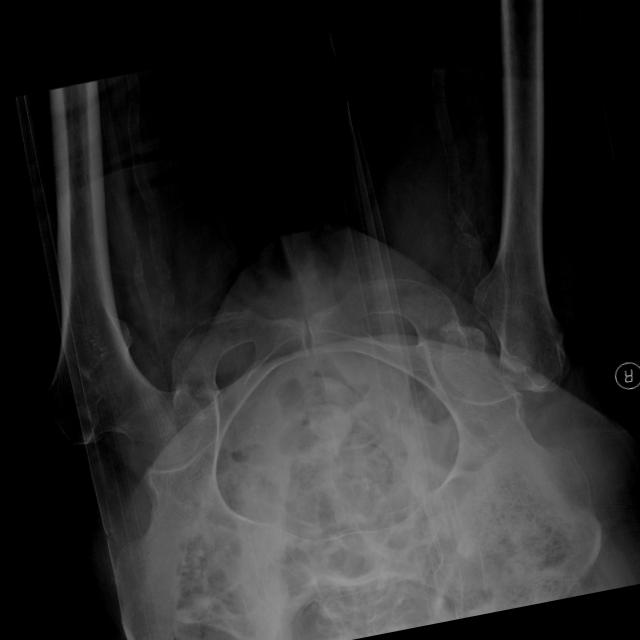normal-left: (47, 245, 205, 465)
right-neck: (472, 213, 568, 392), (440, 323, 513, 398)
